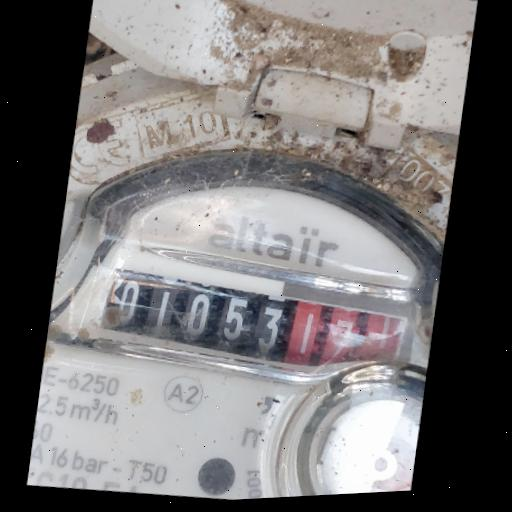0: (174, 278, 230, 353), (101, 266, 156, 339)
1: (138, 271, 193, 345), (285, 298, 335, 371), (359, 310, 405, 368)
3: (250, 292, 300, 366)
5: (212, 286, 266, 361)
7: (320, 304, 371, 375)
border_water_meter_number: (87, 233, 428, 409)
